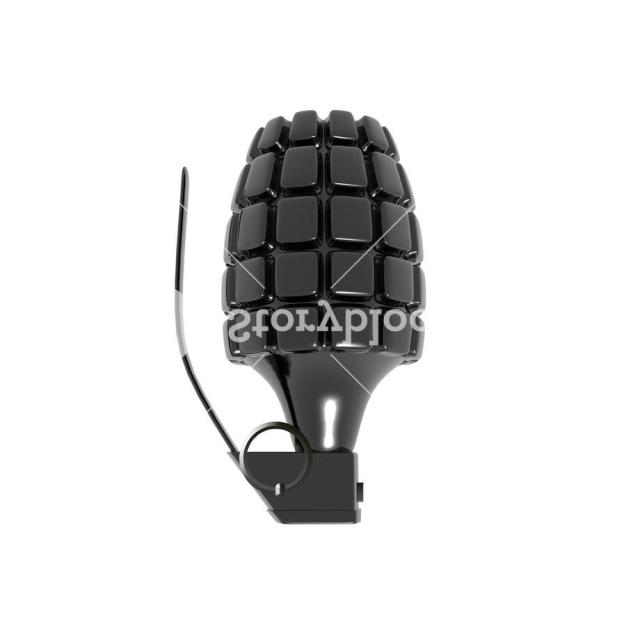grenade: (176, 111, 428, 527)
